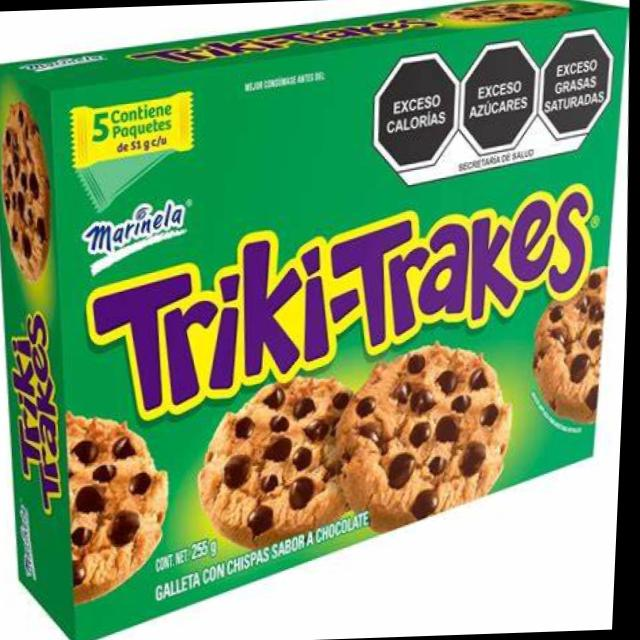Caja: (0, 2, 632, 640)
